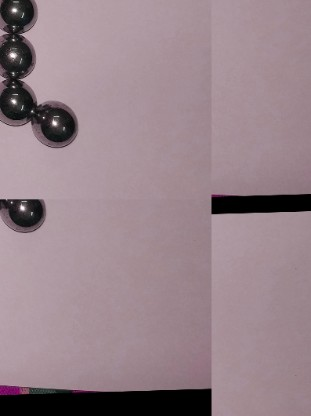ironball: (28, 96, 87, 150), (0, 196, 53, 239), (2, 31, 38, 80), (0, 83, 40, 123), (0, 0, 37, 38)
